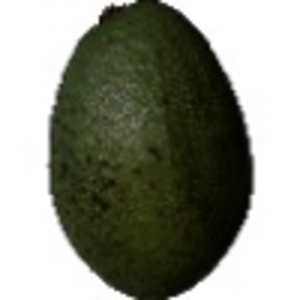abacate: (46, 1, 260, 298)
